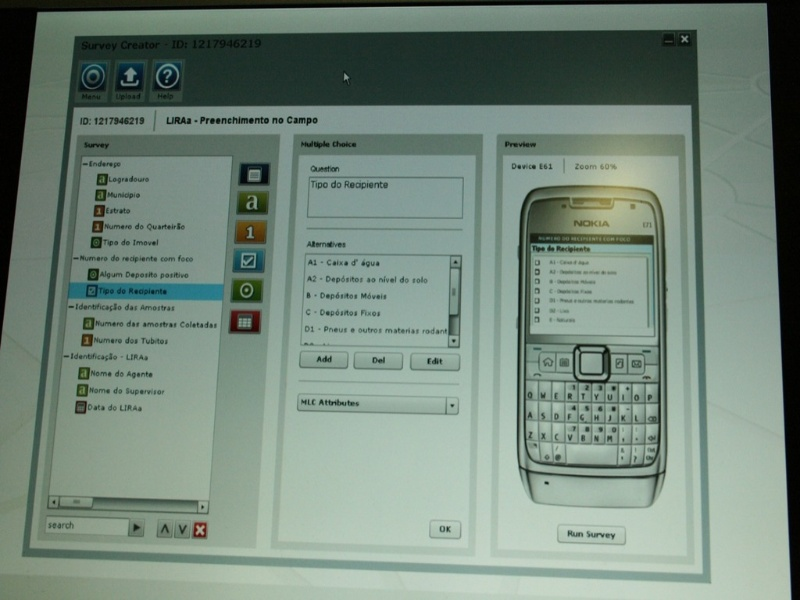Mobile Phone: (516, 175, 673, 517)
